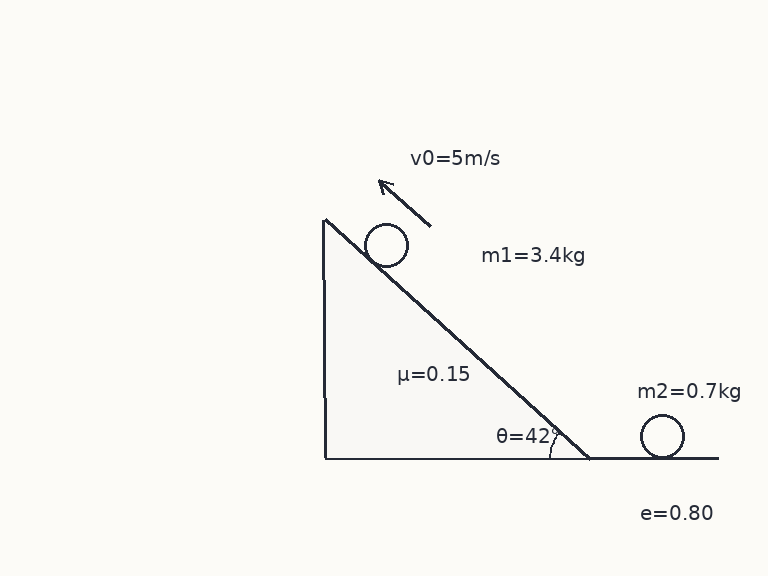ball: (362, 221, 410, 269), (638, 412, 686, 460)
ramp: (323, 217, 592, 460)
